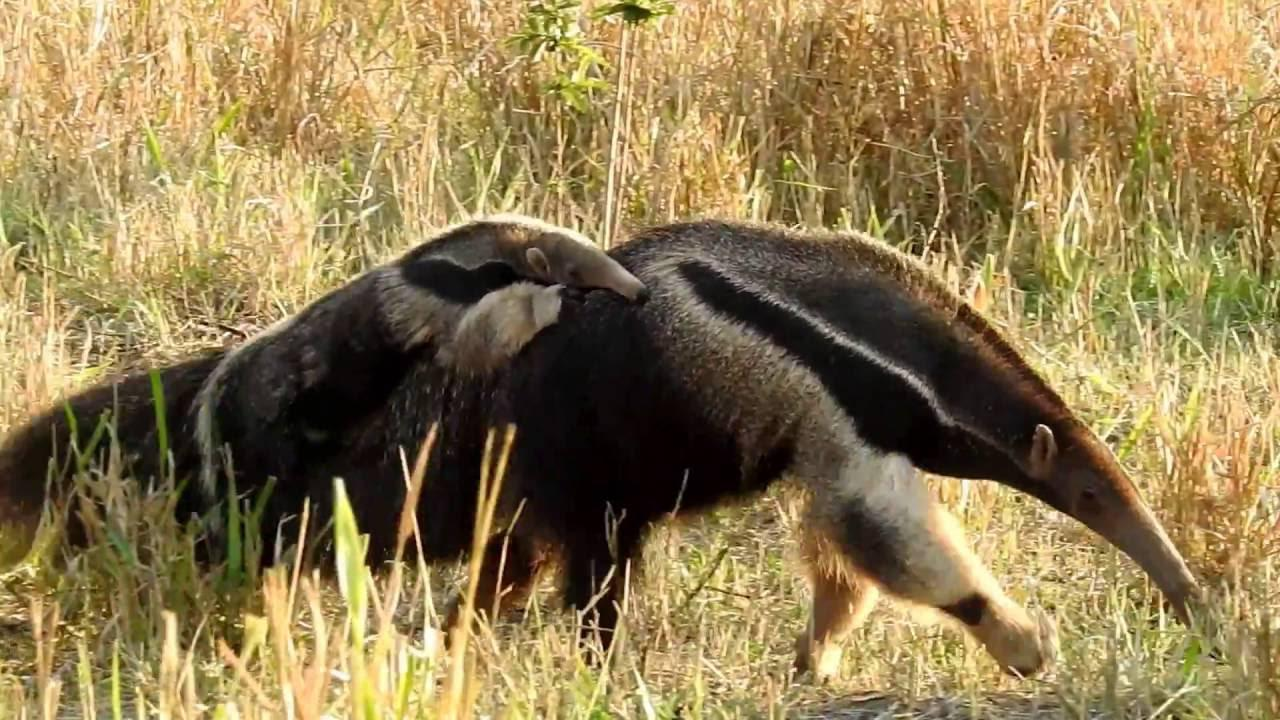TamanduaBandeira: (10, 213, 1212, 698), (199, 215, 651, 453)
